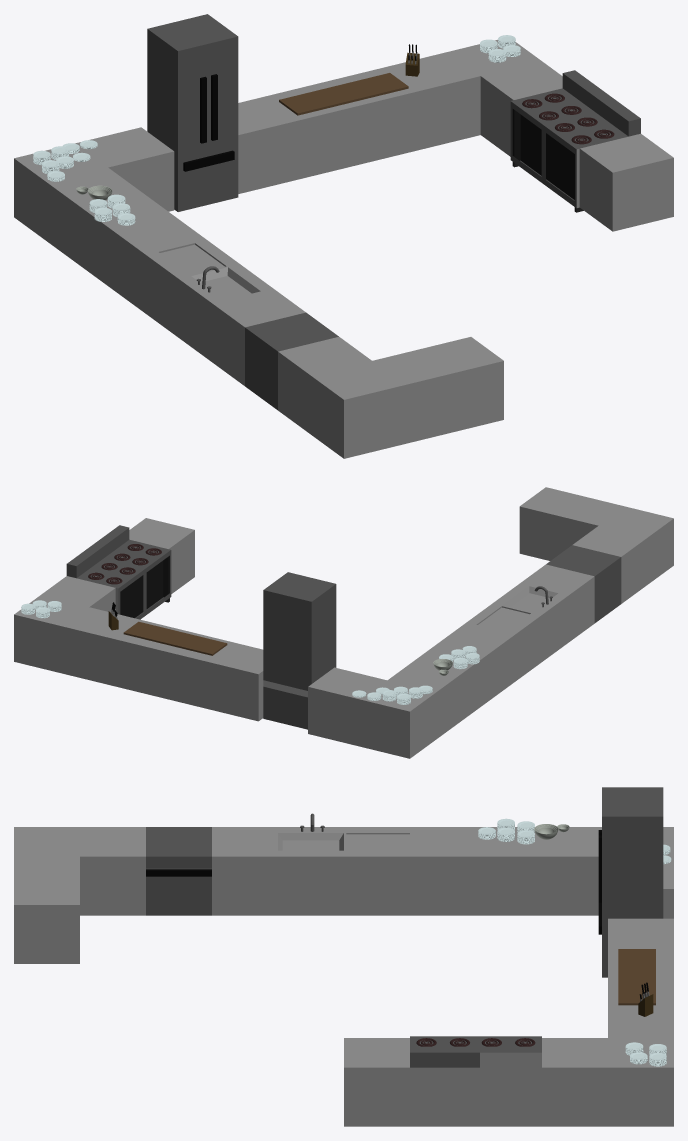
Rendered from kitchen.fbx.
3 views of the same model, one above another, from view 1: azimuth 30°, elevation 25°; view 2: azimuth 150°, elevation 25°; view 3: azimuth 270°, elevation 25° (orthographic). The views are drawn at different scales.
Parts seen in each view (by area): view 1: pTorus27; view 2: pTorus27; view 3: pTorus27.
Part boxes in pixels (x1=…): pTorus27: x1=14, y1=14, x2=673, y2=458; pTorus27: x1=14, y1=487, x2=673, y2=758; pTorus27: x1=14, y1=787, x2=673, y2=1126.
Bounding box in the file's own units: 31.33 × 9.98 × 36.03.
